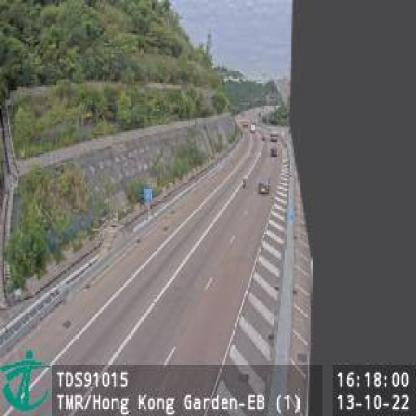Car: (258, 176, 272, 193), (272, 146, 278, 155)
